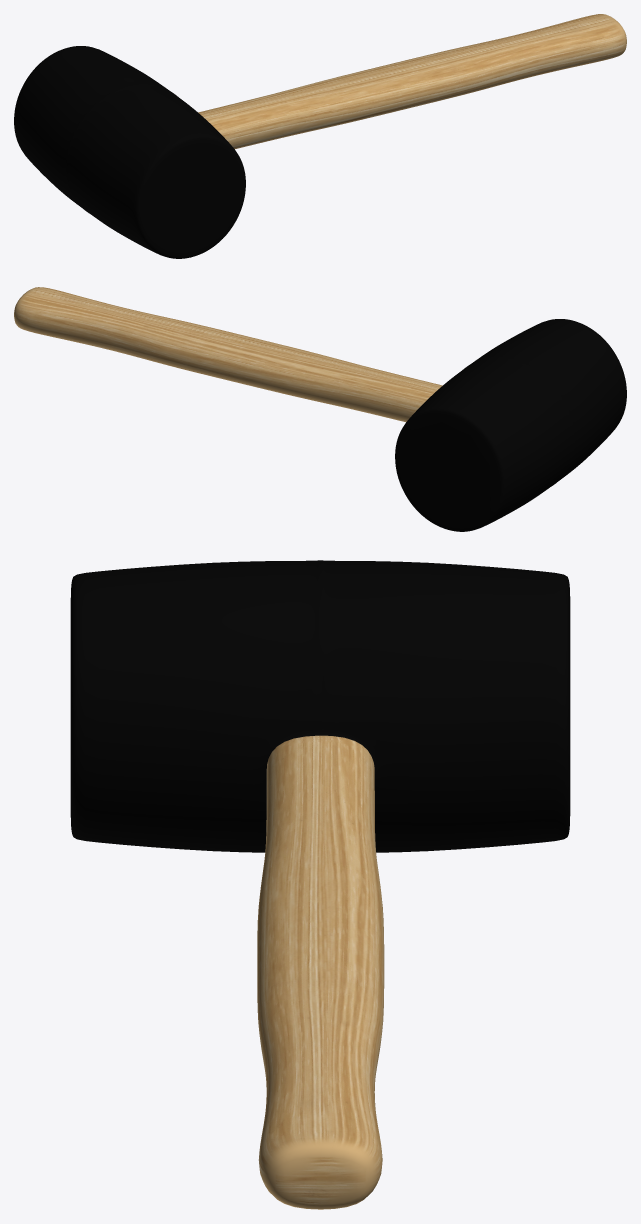
The model's file is 13060_Rubber_Mallet_v1_l3.obj.
The picture shows the model from 3 angles, top to bottom: view 1: azimuth 30°, elevation 25°; view 2: azimuth 150°, elevation 25°; view 3: azimuth 270°, elevation 25°; orthographic projection. The views are drawn at different scales.
Visible parts, largest first — view 1: Rubber_Mallet_2; view 2: Rubber_Mallet_2; view 3: Rubber_Mallet_2.
Part boxes in pixels (x1,y1,x2,y2): Rubber_Mallet_2: [14, 14, 626, 258]; Rubber_Mallet_2: [14, 287, 626, 531]; Rubber_Mallet_2: [70, 560, 570, 1209].
Bounding box in the file's own units: 38.8 × 8.93 × 15.23.
1 material, 1 textured.
